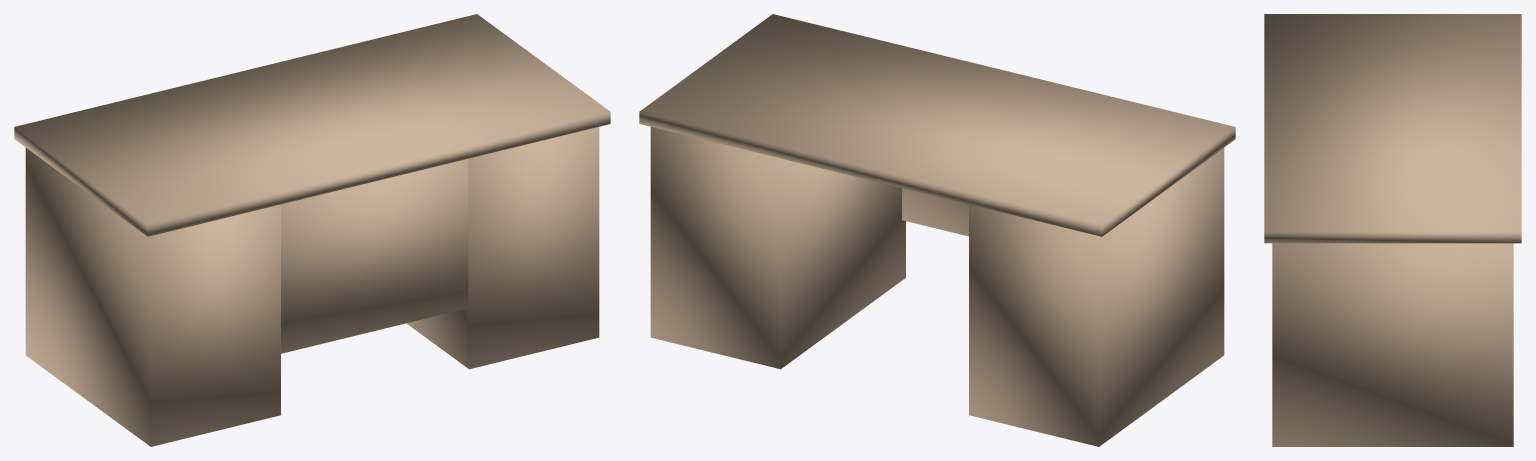
Rendered from SM_Office_Desk.fbx.
The picture shows the model from 3 angles, left to right: view 1: azimuth 30°, elevation 25°; view 2: azimuth 150°, elevation 25°; view 3: azimuth 270°, elevation 25°; orthographic projection. The views are drawn at different scales.
Visible parts, largest first — view 1: Cube; view 2: Cube; view 3: Cube.
Part boxes in pixels (left/top/right/bottom): Cube: left=14, top=14, right=610, bottom=446; Cube: left=639, top=14, right=1235, bottom=446; Cube: left=1264, top=14, right=1521, bottom=446.
Size of the model in its own units: 160 by 75 by 80.
